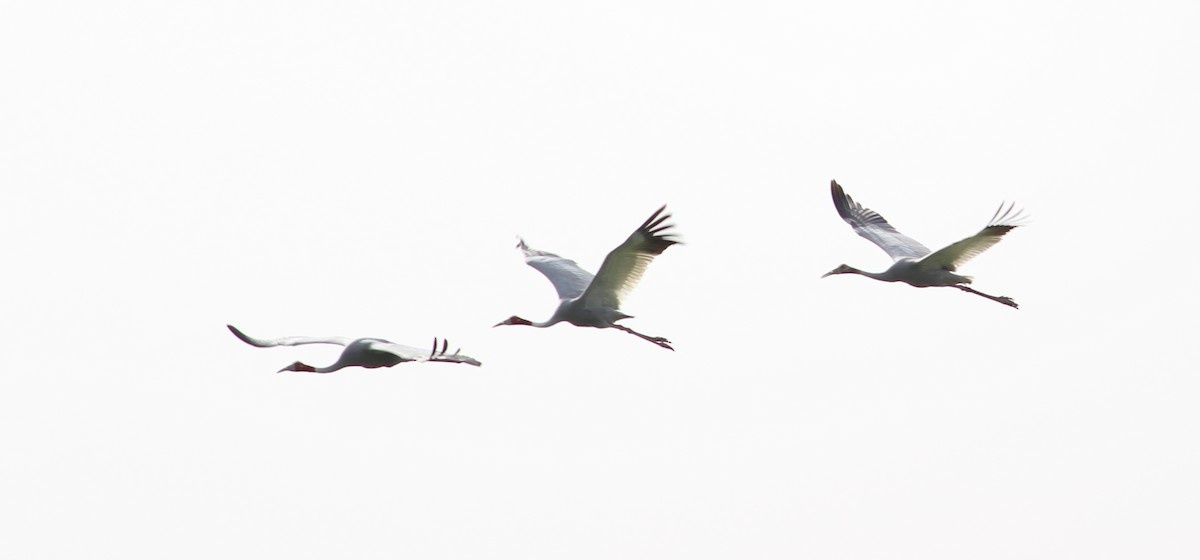crane: (811, 178, 1057, 317), (491, 215, 692, 364), (225, 315, 497, 384)
